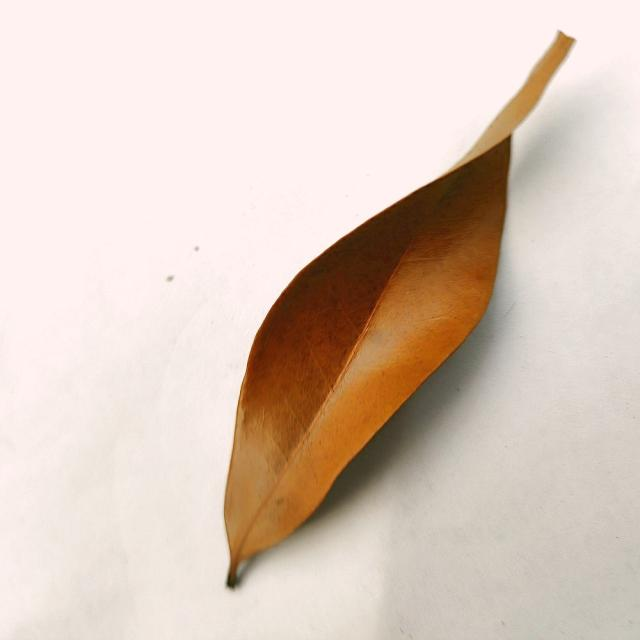Dry_Leaf-Lychee: (223, 35, 575, 589)
